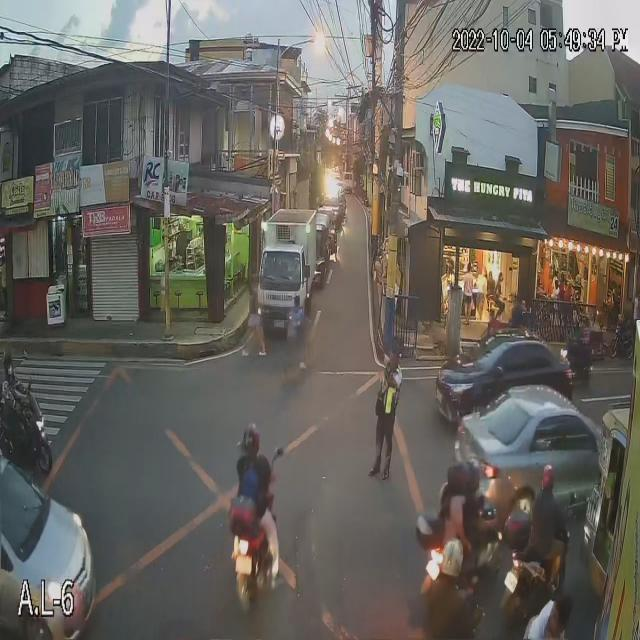helmet: (438, 529, 478, 579), (445, 457, 474, 499), (535, 454, 563, 493), (459, 453, 488, 490), (241, 420, 260, 456), (2, 345, 18, 382)
motorcycle: (408, 516, 501, 618), (222, 485, 288, 607), (514, 537, 574, 615), (0, 398, 56, 467), (557, 340, 600, 388)
rider: (225, 409, 289, 528), (430, 531, 481, 632), (526, 458, 565, 559), (430, 456, 467, 552), (454, 450, 488, 535), (0, 337, 29, 420), (566, 311, 590, 355)
